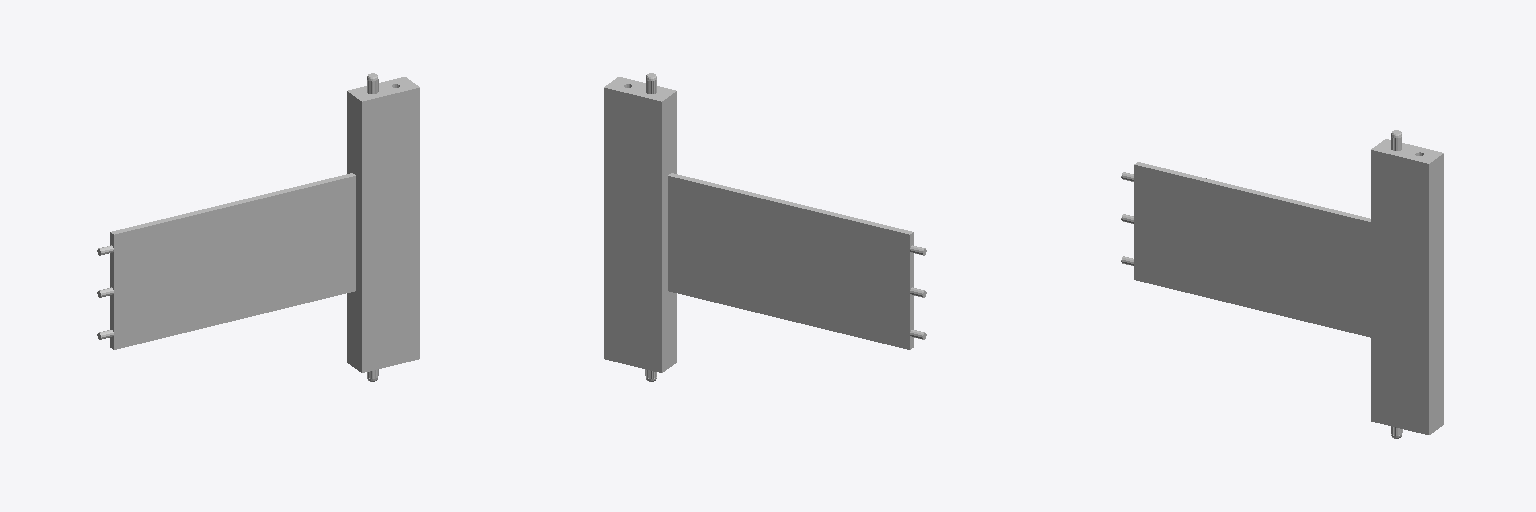
File: steg_1.obj
3 renders of one model, left to right at view 1: azimuth 30°, elevation 25°; view 2: azimuth 150°, elevation 25°; view 3: azimuth 330°, elevation 25°, orthographic.
Bounding box in the file's own units: 242 × 224 × 20.